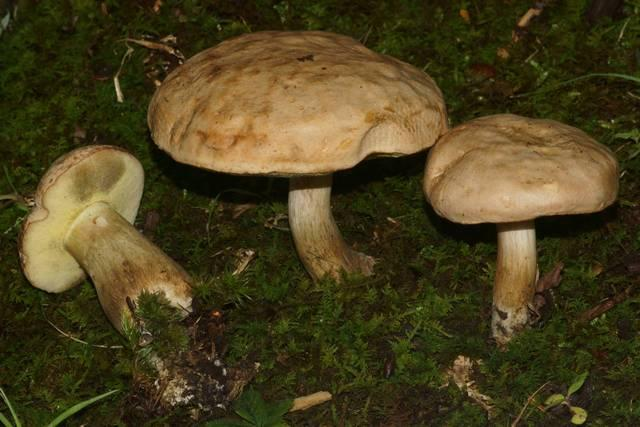edible_mushroom: (146, 28, 449, 285), (421, 111, 620, 347), (17, 143, 196, 341)
